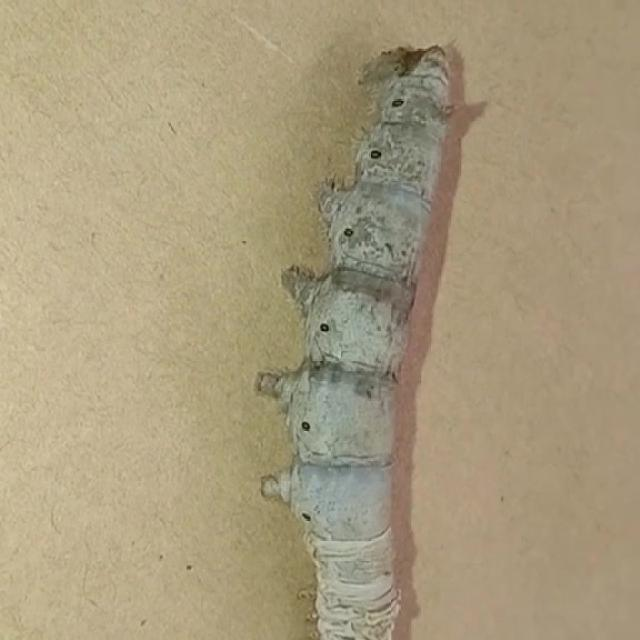Grasserie: (248, 30, 494, 640)
